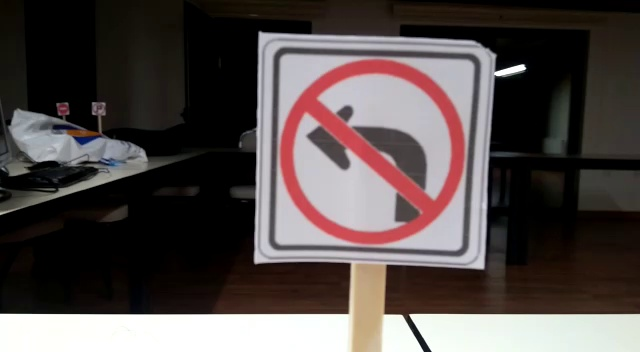sola_donulmez: (258, 49, 494, 256)
